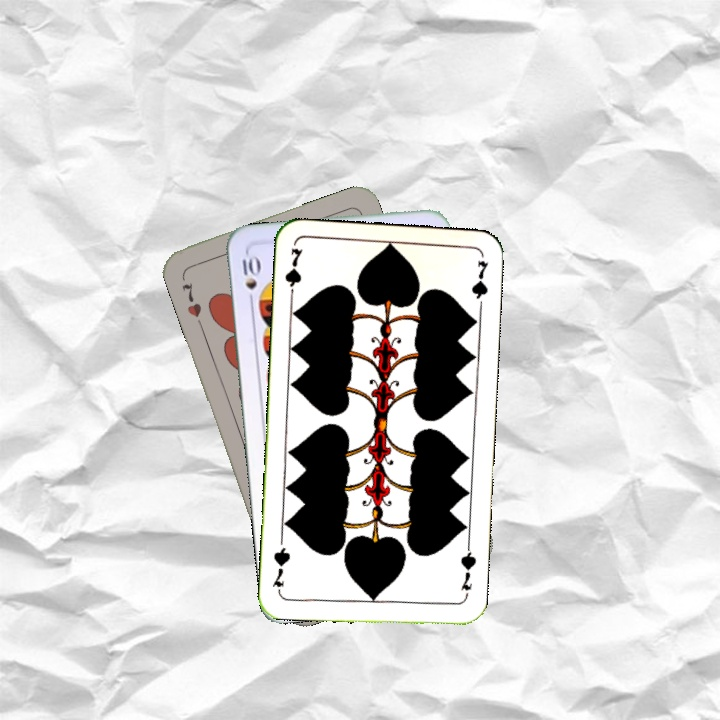G7: (281, 244, 306, 303), (456, 542, 479, 601)
H7: (178, 278, 204, 320)
S10: (238, 251, 261, 309)
